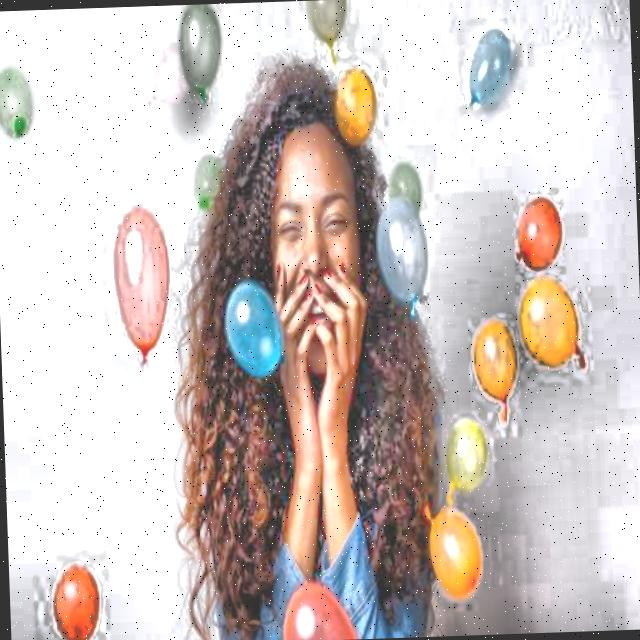happy: (217, 56, 418, 408)
